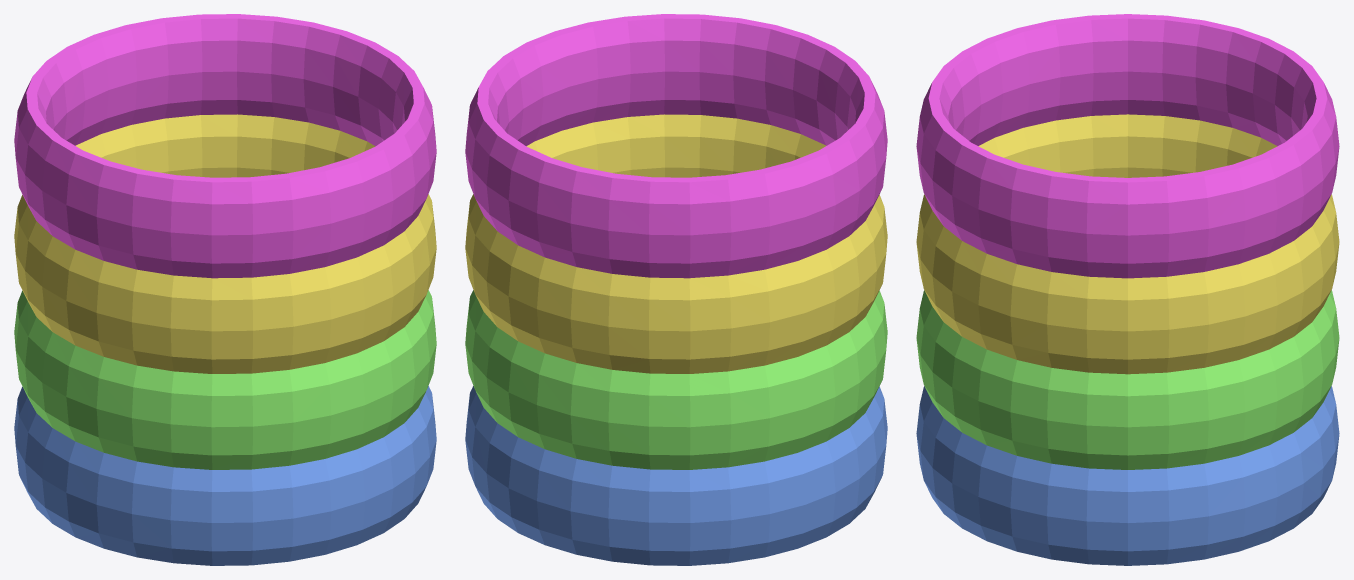
File: sh-scopia-round-swimming-pool.glb
The picture shows the model from 3 angles, left to right: view 1: azimuth 30°, elevation 25°; view 2: azimuth 150°, elevation 25°; view 3: azimuth 270°, elevation 25°; orthographic projection.
Parts seen in each view (by area): view 1: rounds_Torus.003, rounds.001_Torus.000, rounds.002_Torus.004, rounds.003_Torus.005; view 2: rounds_Torus.003, rounds.001_Torus.000, rounds.002_Torus.004, rounds.003_Torus.005; view 3: rounds_Torus.003, rounds.001_Torus.000, rounds.002_Torus.004, rounds.003_Torus.005.
Boxes of the visible parts, x1,y1,x2,y2 form: rounds_Torus.003: (14, 14, 436, 278); rounds.001_Torus.000: (14, 114, 436, 373); rounds.002_Torus.004: (14, 386, 436, 565); rounds.003_Torus.005: (14, 290, 436, 469); rounds_Torus.003: (465, 14, 887, 278); rounds.001_Torus.000: (465, 114, 887, 373); rounds.002_Torus.004: (465, 386, 887, 565); rounds.003_Torus.005: (465, 290, 887, 469); rounds_Torus.003: (916, 14, 1339, 278); rounds.001_Torus.000: (916, 114, 1339, 374); rounds.002_Torus.004: (916, 386, 1339, 565); rounds.003_Torus.005: (916, 290, 1339, 469).
Bounding box in the file's own units: 1 × 1 × 1.
